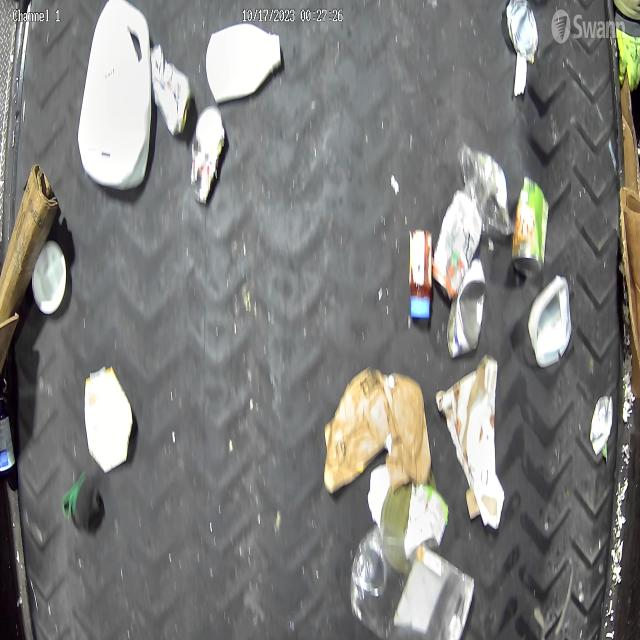can: (432, 189, 482, 301), (446, 258, 486, 360), (151, 42, 191, 136), (512, 180, 546, 273), (506, 0, 539, 62)
milk_jug: (80, 2, 155, 192)
